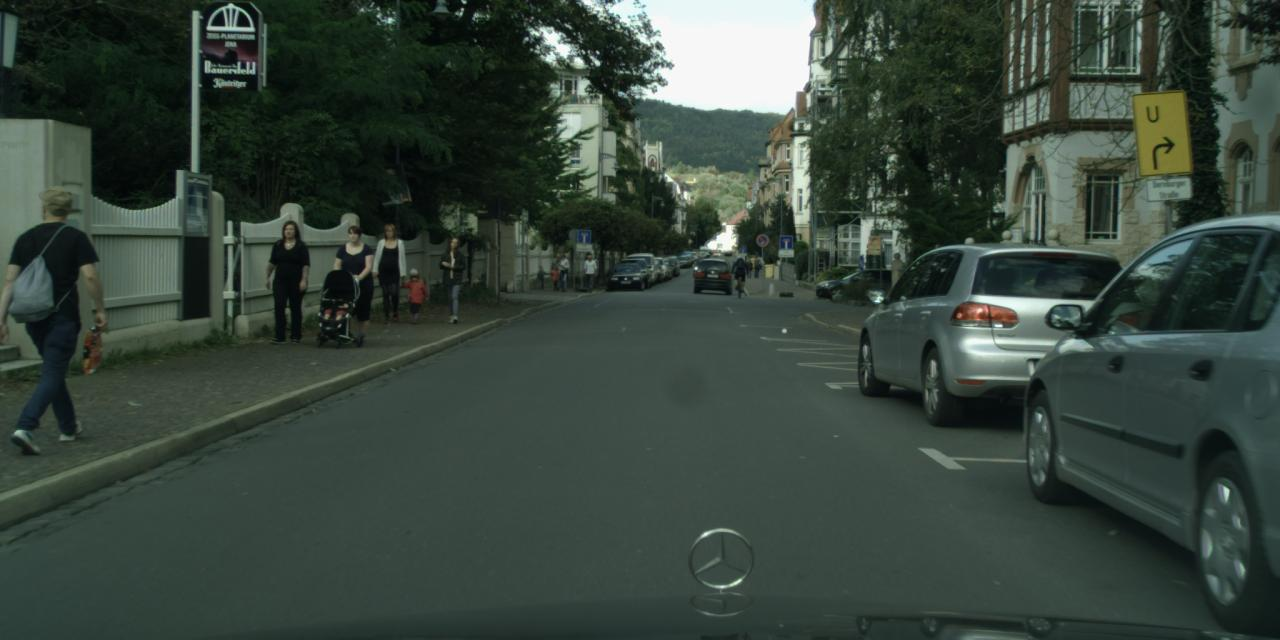ped: (0, 186, 106, 446), (264, 220, 314, 343), (330, 226, 378, 341), (371, 224, 410, 321), (436, 237, 471, 322), (403, 267, 425, 324), (549, 253, 570, 294), (582, 254, 596, 292), (732, 255, 746, 289), (536, 264, 546, 288), (751, 254, 760, 277), (744, 257, 752, 277)
